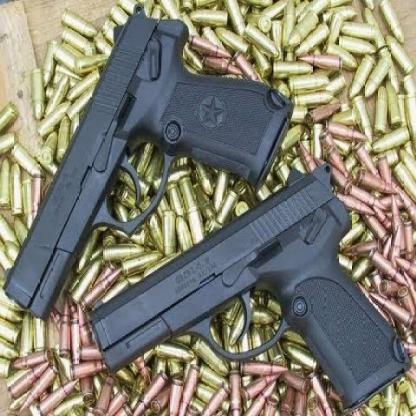Pistol: (87, 161, 412, 410)
